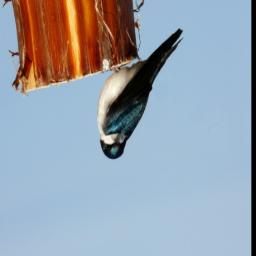Swallow: (86, 25, 199, 164)
